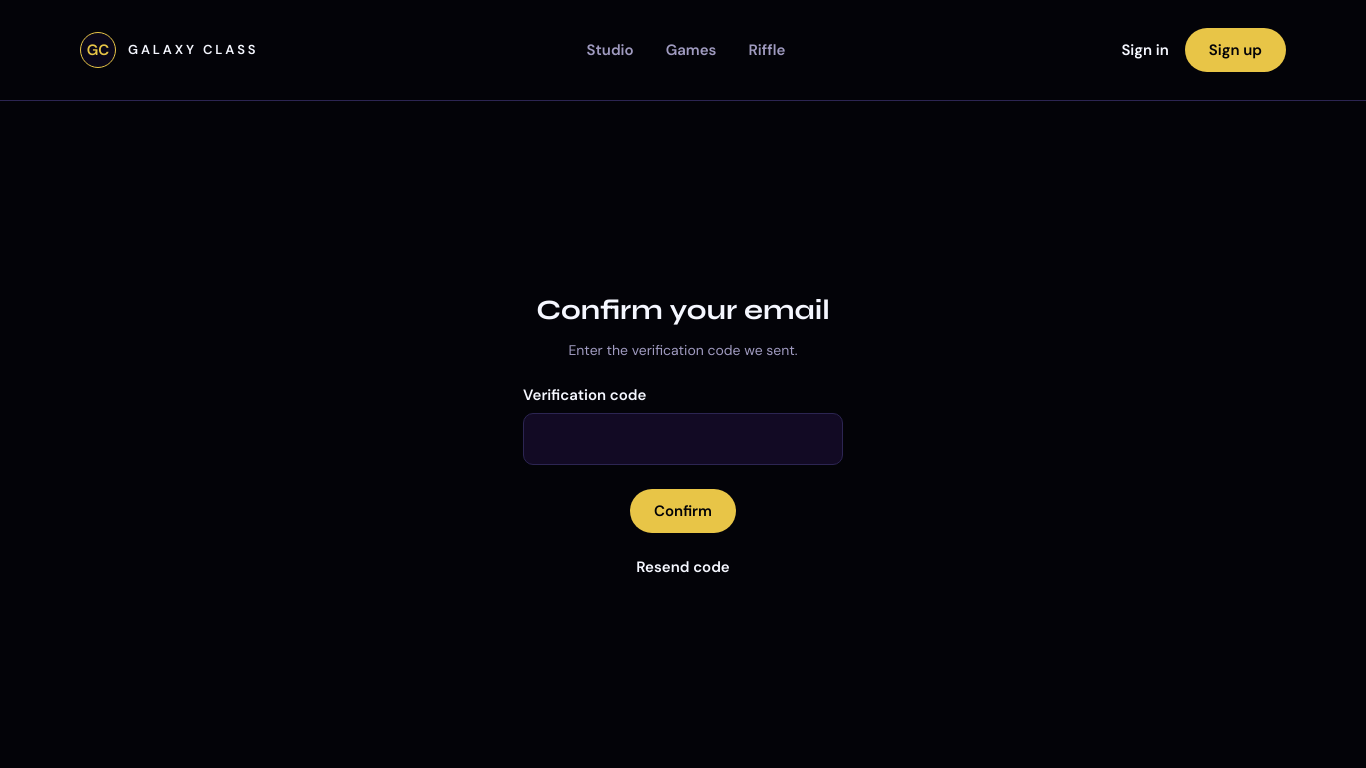
Scenario: confirm › shows an invalid or expired code error
The image size is (1366, 768).
Type "000000" into the field labelled "Verification code" at (683, 439), box [523,413,843,465]
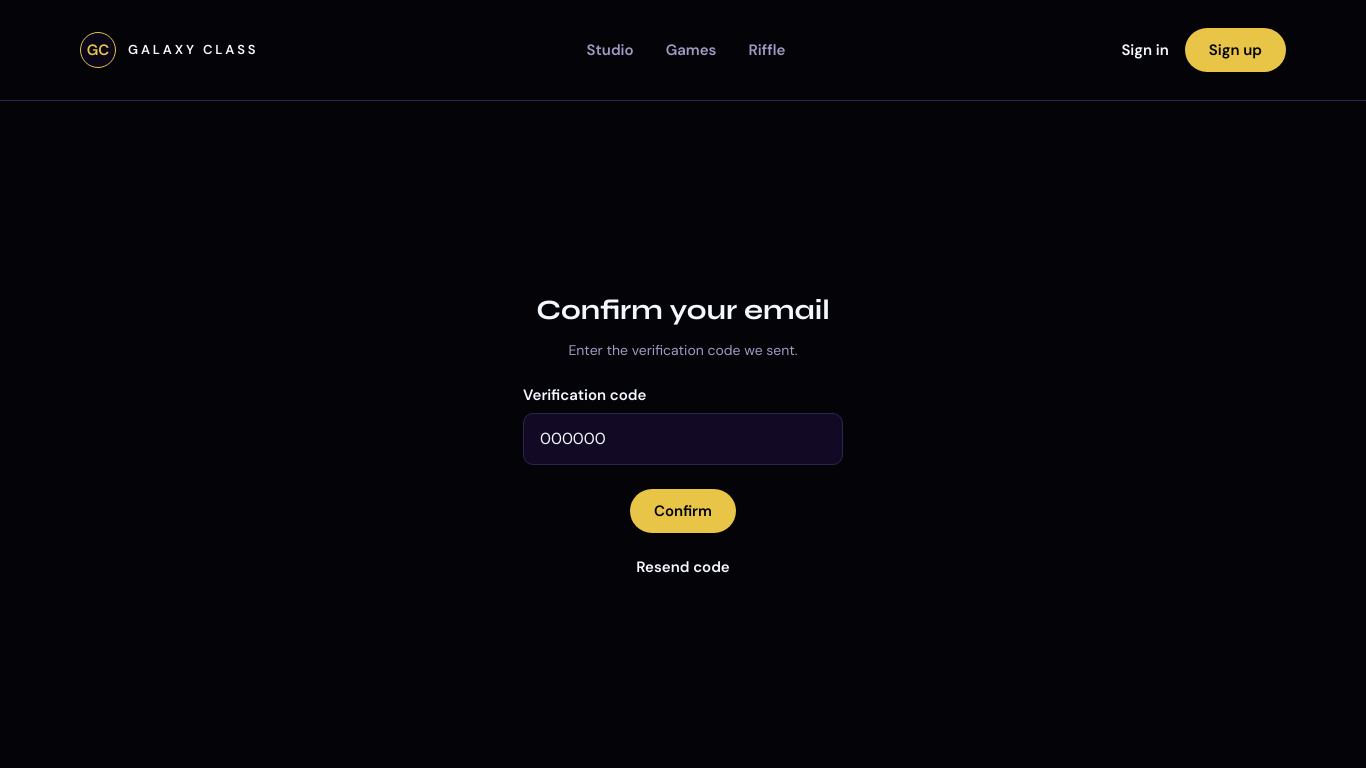
Click the button "Confirm" at (683, 511), box [630,489,736,533]
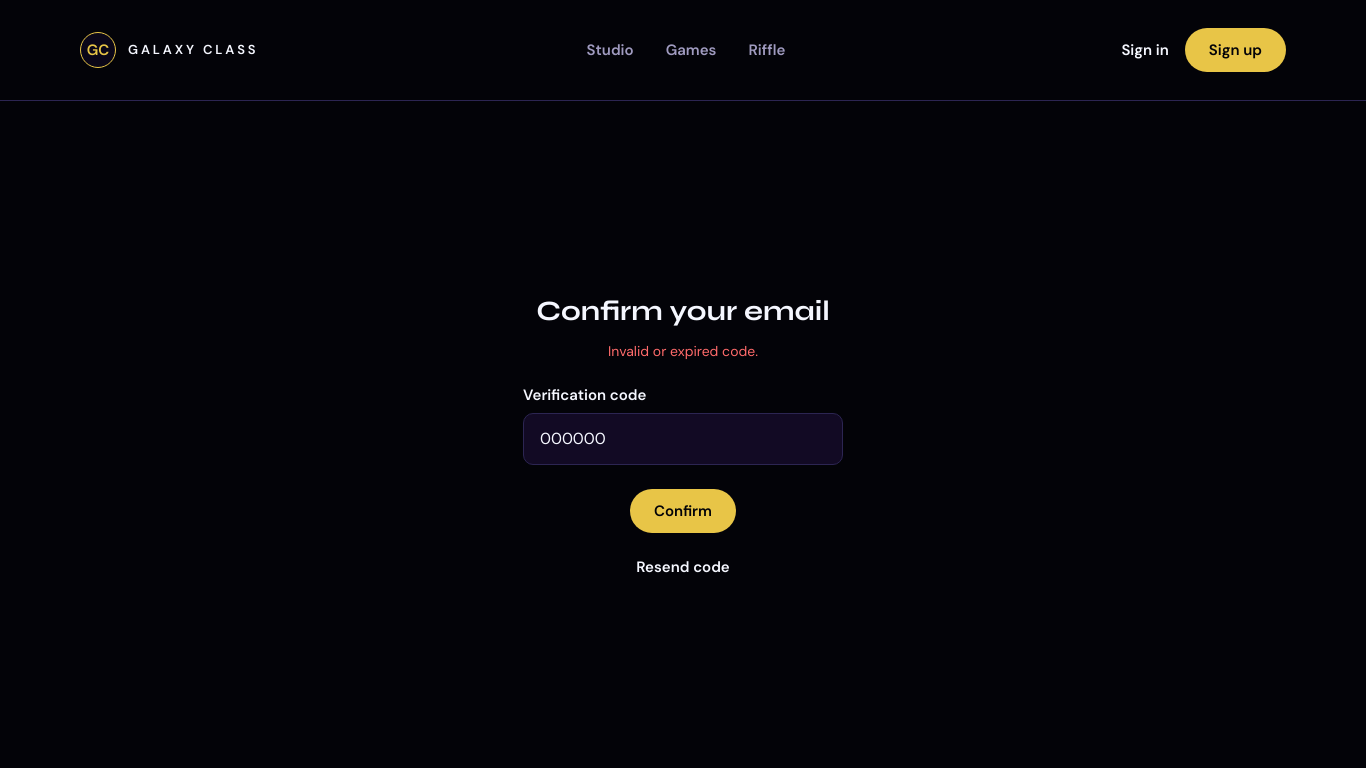
Now the message reads "Invalid or expired code.", box [608,342,758,360]
